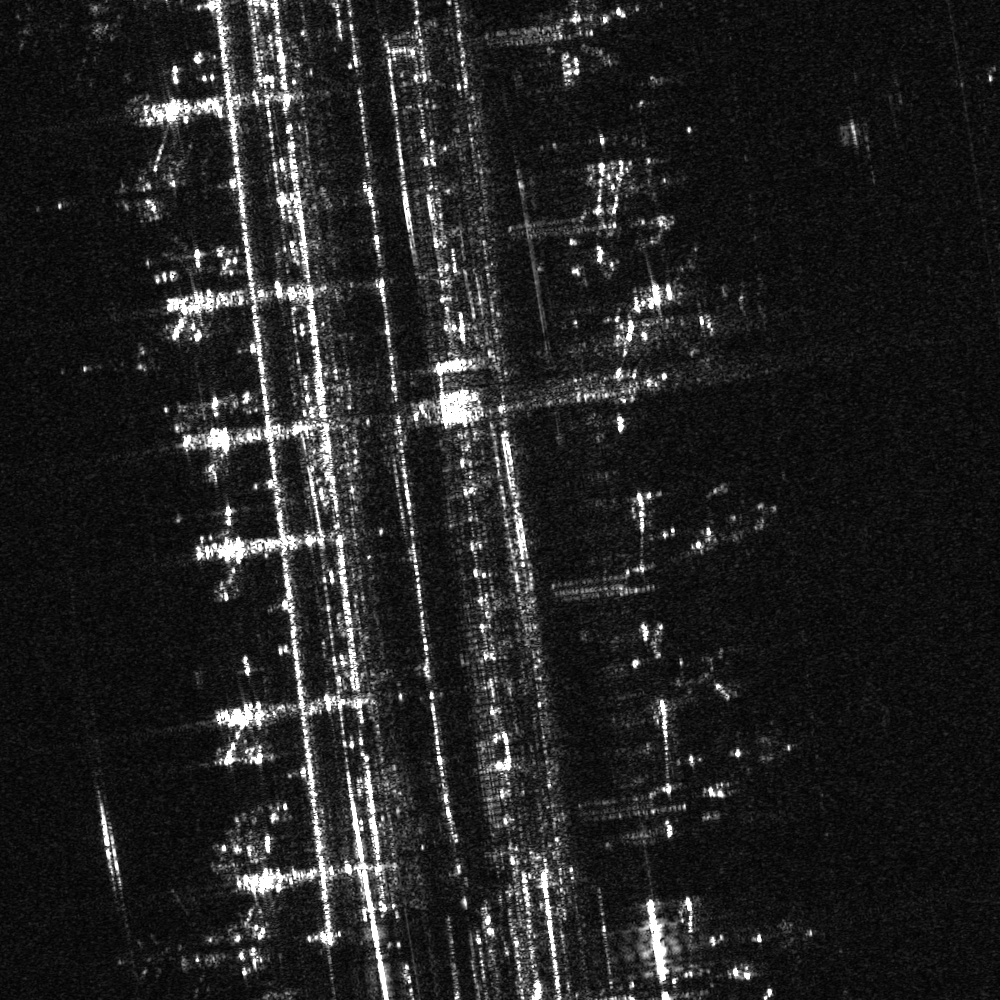A330: (115, 884, 247, 999)
